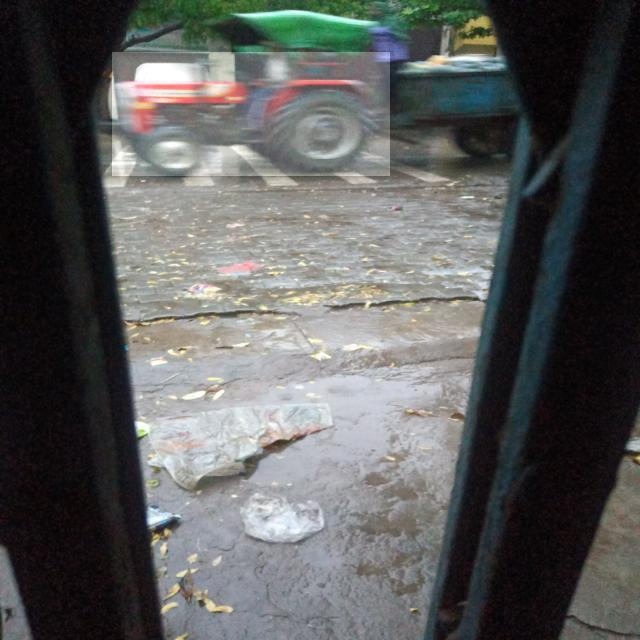Tractot: (112, 52, 390, 176)
